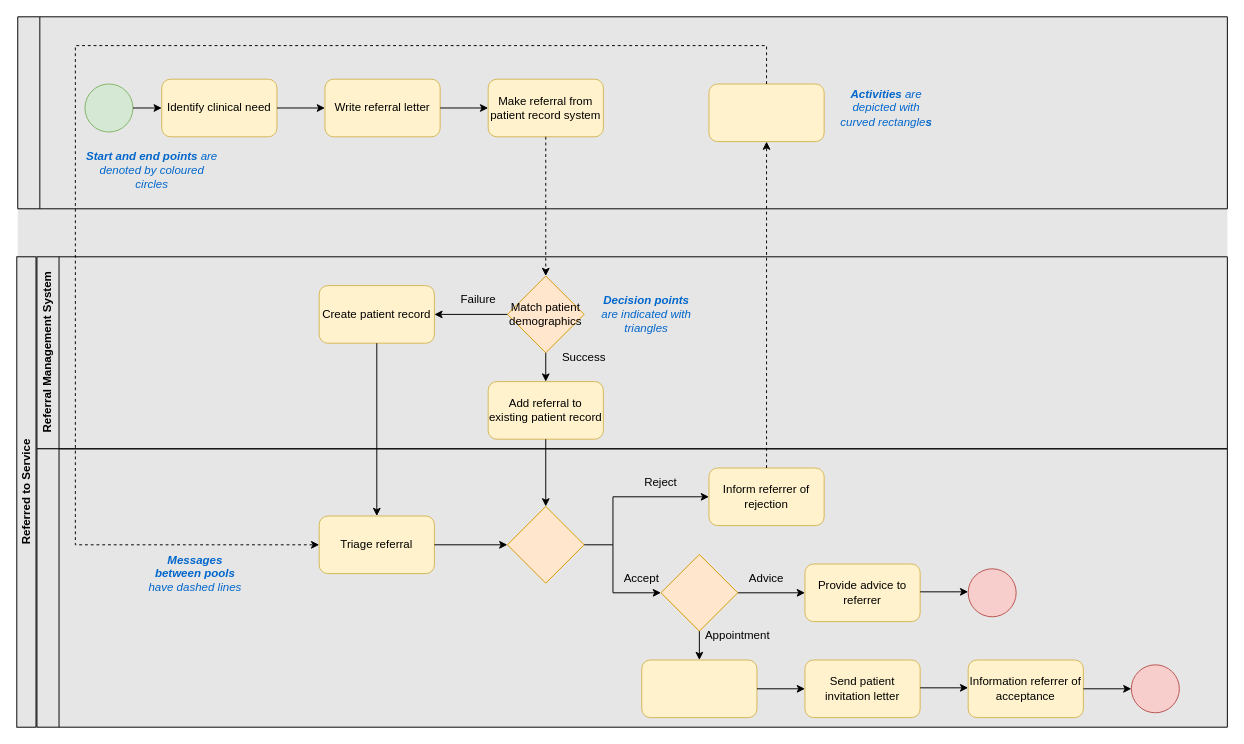
The diagram is 1244 pixels wide and 744 high, and some of its shapes have lost their labels. Each missing label, with the box of its shape:
Book appointment: (641, 659, 757, 718)
Consultant: (36, 448, 1227, 727)
Referral type: (660, 553, 738, 631)
Referrer: (17, 16, 1227, 209)
Set outcome: (506, 505, 584, 583)
Update referral information: (708, 83, 824, 142)
